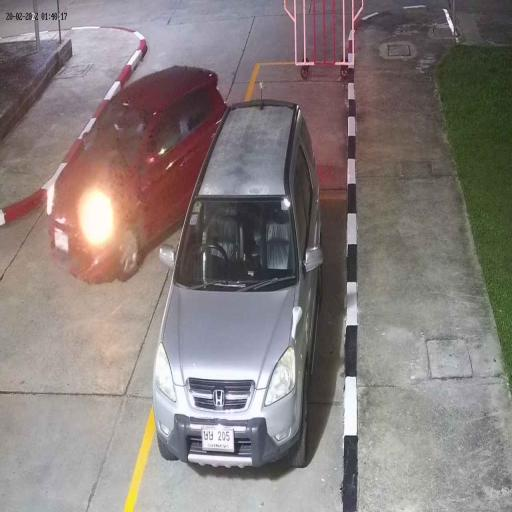car: (154, 98, 322, 471), (48, 63, 226, 282)
